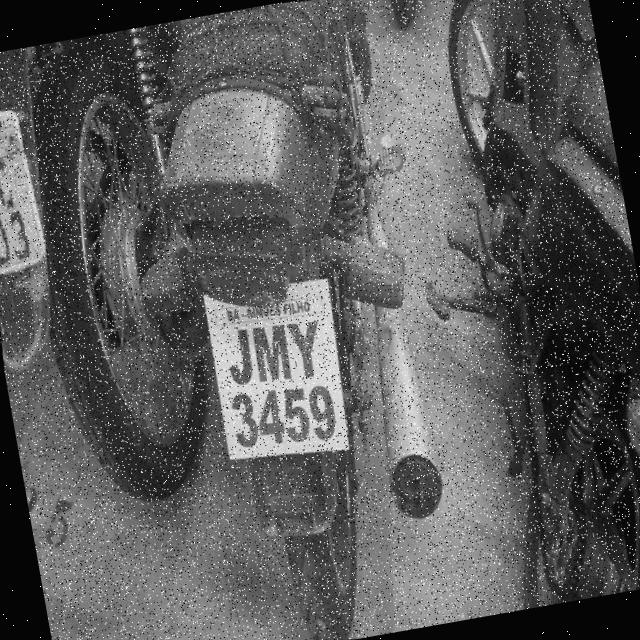Caractere: (247, 320, 296, 386), (282, 316, 328, 382), (224, 388, 264, 451), (250, 385, 290, 447), (220, 325, 258, 388), (277, 384, 315, 446), (303, 380, 341, 442)
